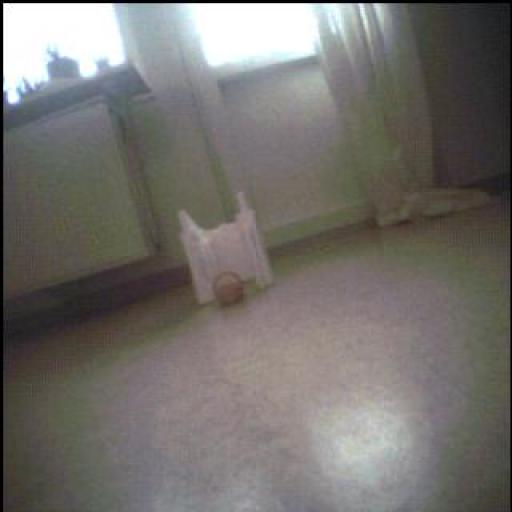Basket: (214, 273, 244, 307)
